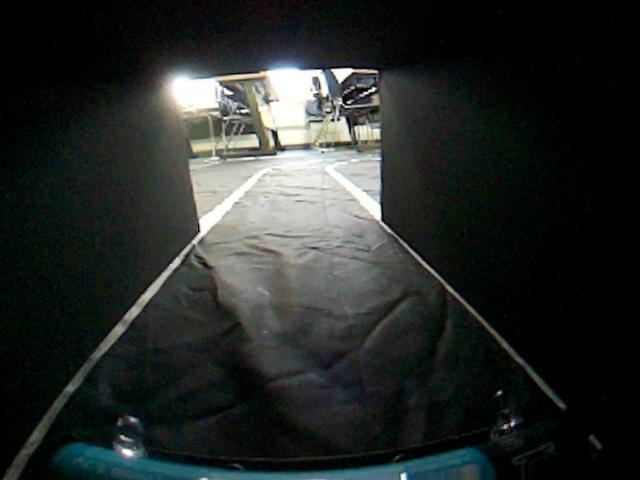straight: (6, 205, 639, 480)
